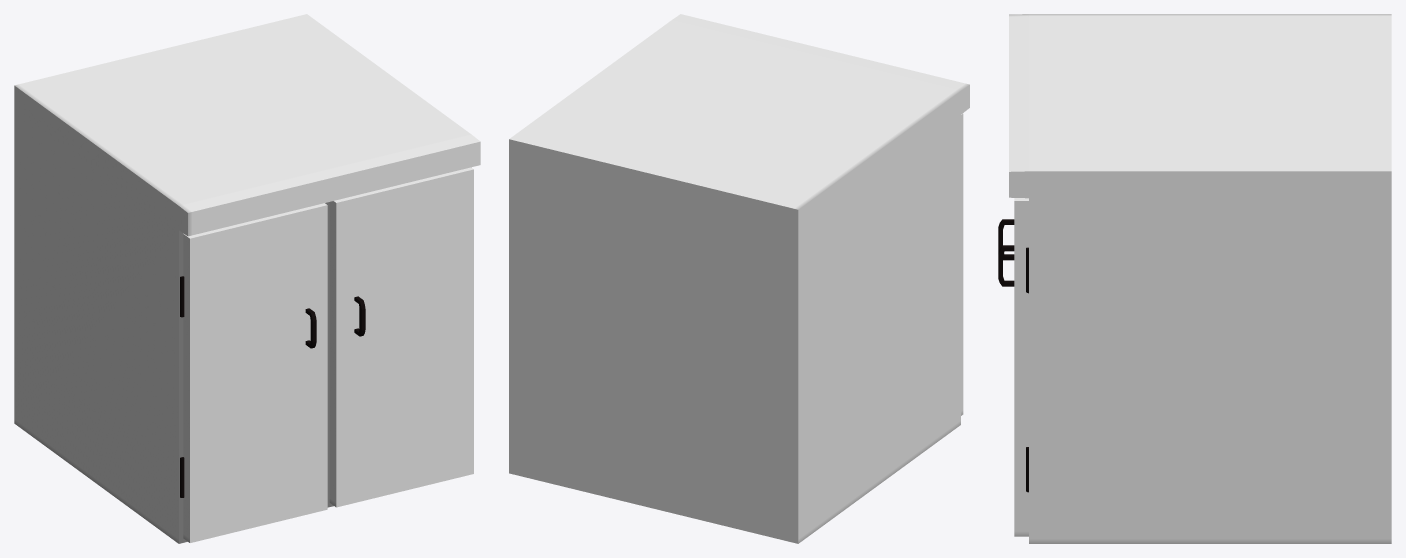
Rendered from counter.fbx.
3 views of the same model, side by side, from view 1: azimuth 30°, elevation 25°; view 2: azimuth 150°, elevation 25°; view 3: azimuth 270°, elevation 25° (orthographic). The views are drawn at different scales.
Visible parts, largest first — view 1: Cube.001; view 2: Cube.001; view 3: Cube.001.
Part boxes in pixels (x1=…): Cube.001: x1=14, y1=14, x2=480, y2=543; Cube.001: x1=509, y1=14, x2=969, y2=543; Cube.001: x1=998, y1=14, x2=1391, y2=543.
Size of the model in its own units: 200 by 221 by 211.
